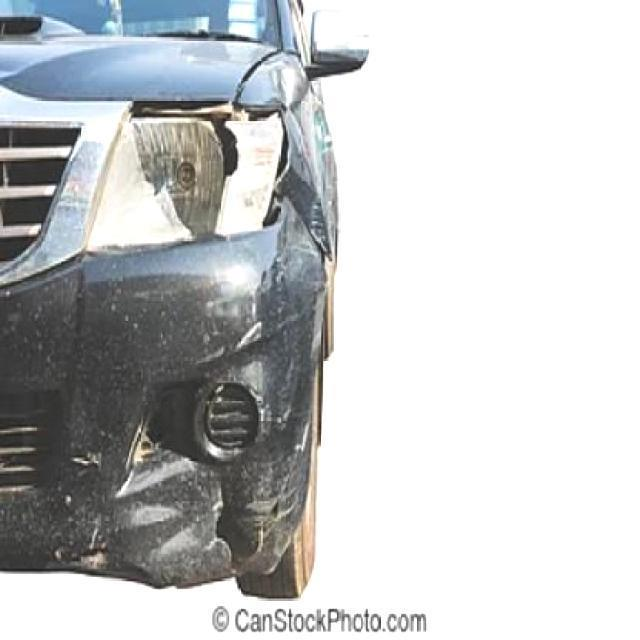minor: (234, 322, 265, 352), (71, 443, 103, 471)
moderate: (0, 52, 335, 598), (305, 422, 314, 452)
